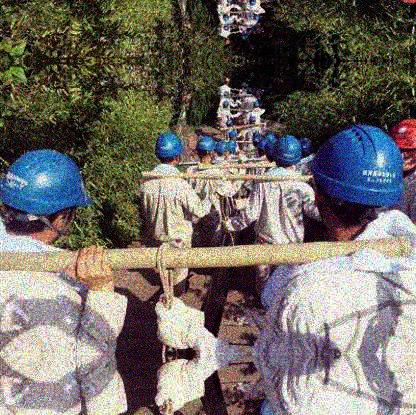helmet: (307, 124, 405, 240), (1, 148, 91, 242), (154, 132, 183, 162), (229, 131, 237, 140)
